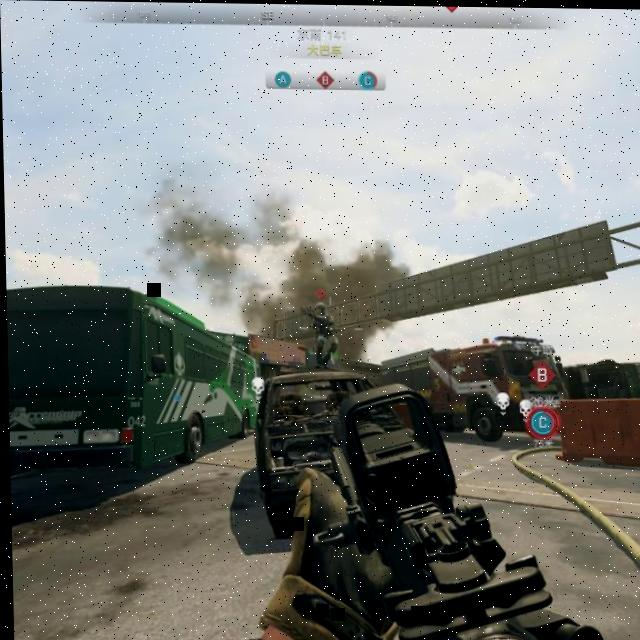MW2_body: (310, 288, 337, 370)
